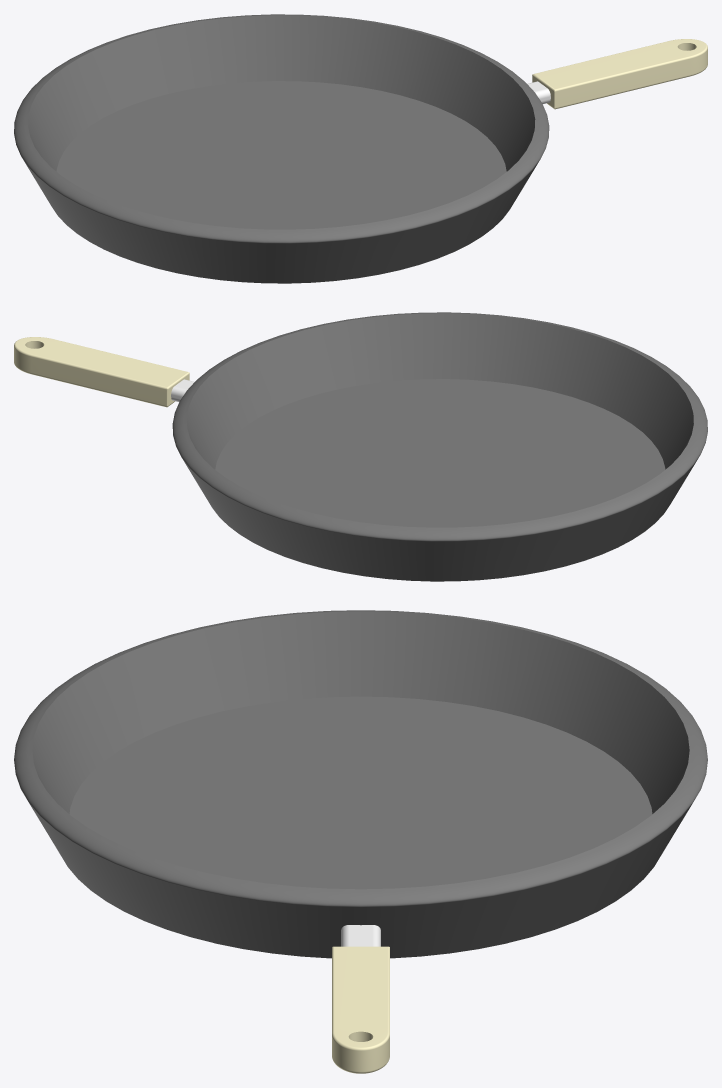
Rendered from pan_2.glb.
The picture shows the model from 3 angles, top to bottom: view 1: azimuth 30°, elevation 25°; view 2: azimuth 150°, elevation 25°; view 3: azimuth 270°, elevation 25°; orthographic projection. The views are drawn at different scales.
Parts seen in each view (by area): view 1: efdb4592d9b74f8fa0e68336d2d53c5c; view 2: efdb4592d9b74f8fa0e68336d2d53c5c; view 3: efdb4592d9b74f8fa0e68336d2d53c5c.
Boxes of the visible parts, x1,y1,x2,y2 form: efdb4592d9b74f8fa0e68336d2d53c5c: [14, 14, 707, 283]; efdb4592d9b74f8fa0e68336d2d53c5c: [14, 312, 707, 581]; efdb4592d9b74f8fa0e68336d2d53c5c: [14, 610, 707, 1073].
Bounding box in the file's own units: 1 × 0.0891 × 0.7072.
